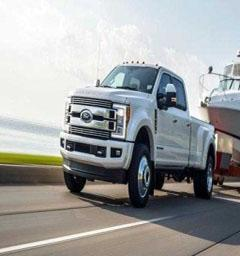car: (44, 42, 224, 208)
